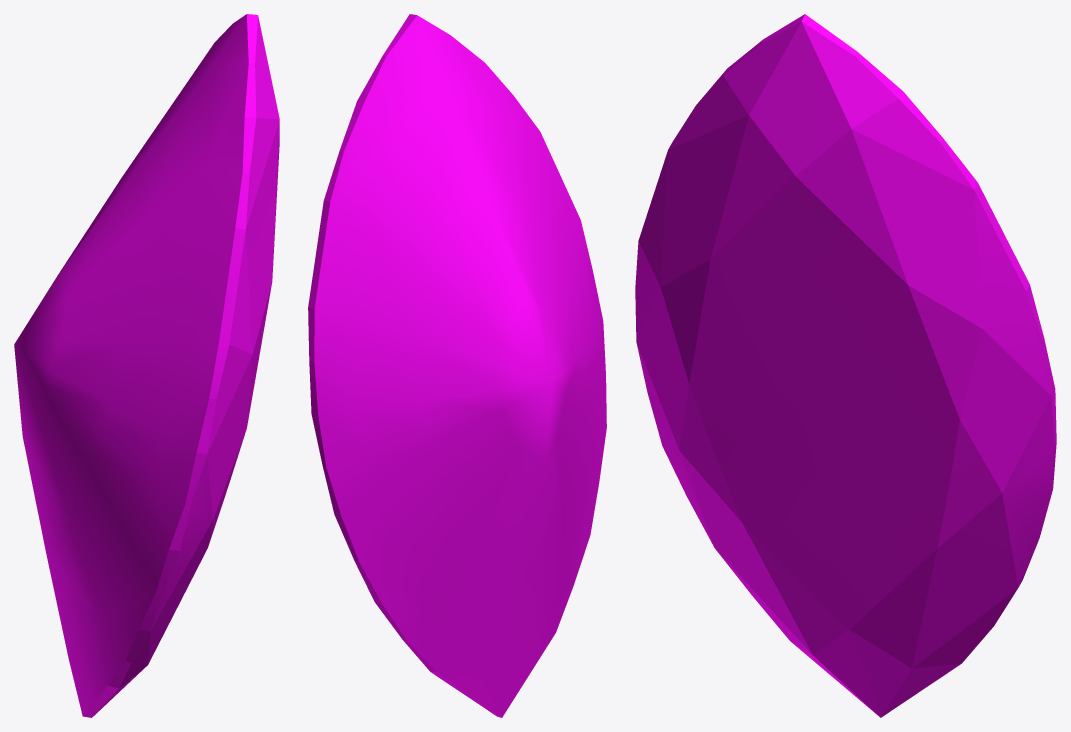
Rendered from TR5_8shapes_Marquise_Classic_Stone.001 2.glb.
3 renders of one model, left to right at view 1: azimuth 30°, elevation 25°; view 2: azimuth 150°, elevation 25°; view 3: azimuth 270°, elevation 25°, orthographic. The views are drawn at different scales.
Parts seen in each view (by area): view 1: TR5_8shapes_Marquise_Classic_Stone.001; view 2: TR5_8shapes_Marquise_Classic_Stone.001; view 3: TR5_8shapes_Marquise_Classic_Stone.001.
Part boxes in pixels (left/top/right/bottom): TR5_8shapes_Marquise_Classic_Stone.001: left=14, top=14, right=279, bottom=717; TR5_8shapes_Marquise_Classic_Stone.001: left=308, top=14, right=606, bottom=717; TR5_8shapes_Marquise_Classic_Stone.001: left=635, top=14, right=1056, bottom=717.
Size of the model in its own units: 0.2048 by 0.6033 by 0.2998.
